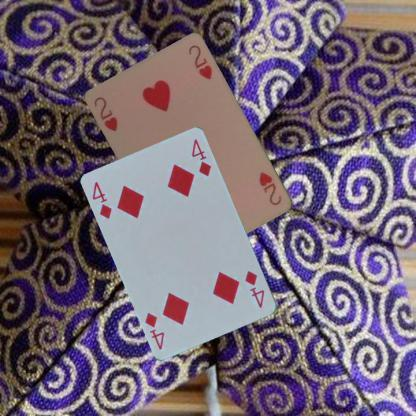2h: (90, 94, 119, 133), (256, 169, 284, 207)
4d: (89, 179, 114, 221), (242, 268, 266, 309)
